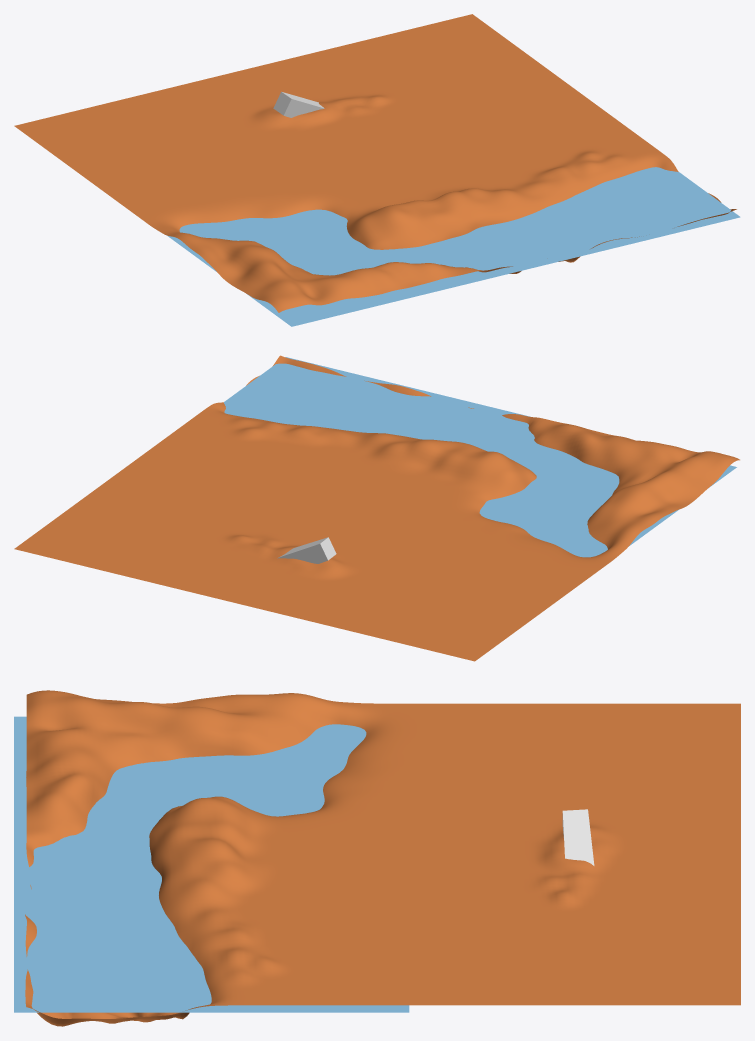
The model's file is isalo.gltf.
The picture shows the model from 3 angles, top to bottom: view 1: azimuth 30°, elevation 25°; view 2: azimuth 150°, elevation 25°; view 3: azimuth 270°, elevation 25°; orthographic projection. The views are drawn at different scales.
Parts seen in each view (by area): view 1: Ground, Water, Rock; view 2: Ground, Water, Rock; view 3: Ground, Water, Rock.
Boxes of the visible parts, <box> form: Ground: <box>14,14,736,312</box>; Water: <box>167,167,740,326</box>; Rock: <box>273,92,324,117</box>; Ground: <box>14,355,739,661</box>; Water: <box>224,357,736,557</box>; Rock: <box>277,537,336,563</box>; Ground: <box>25,690,740,1026</box>; Water: <box>14,716,409,1012</box>; Rock: <box>562,809,594,865</box>.
Bounding box in the file's own units: 140 × 16.14 × 142.
